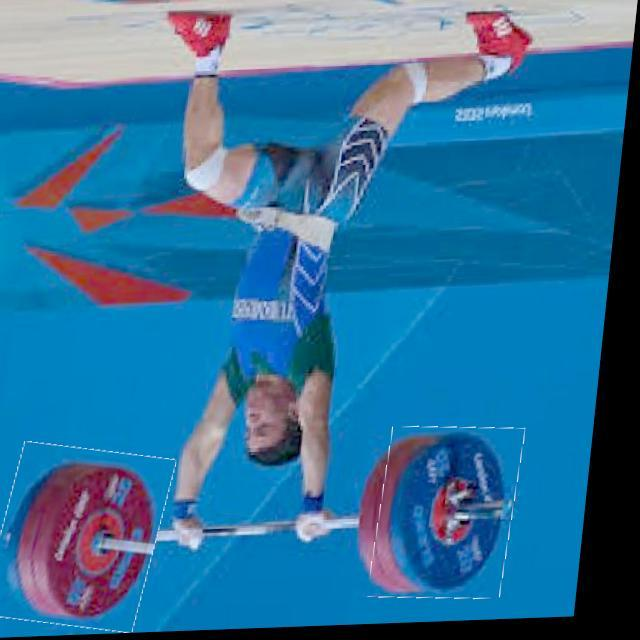barbell: (1, 444, 182, 634), (384, 429, 535, 606)
